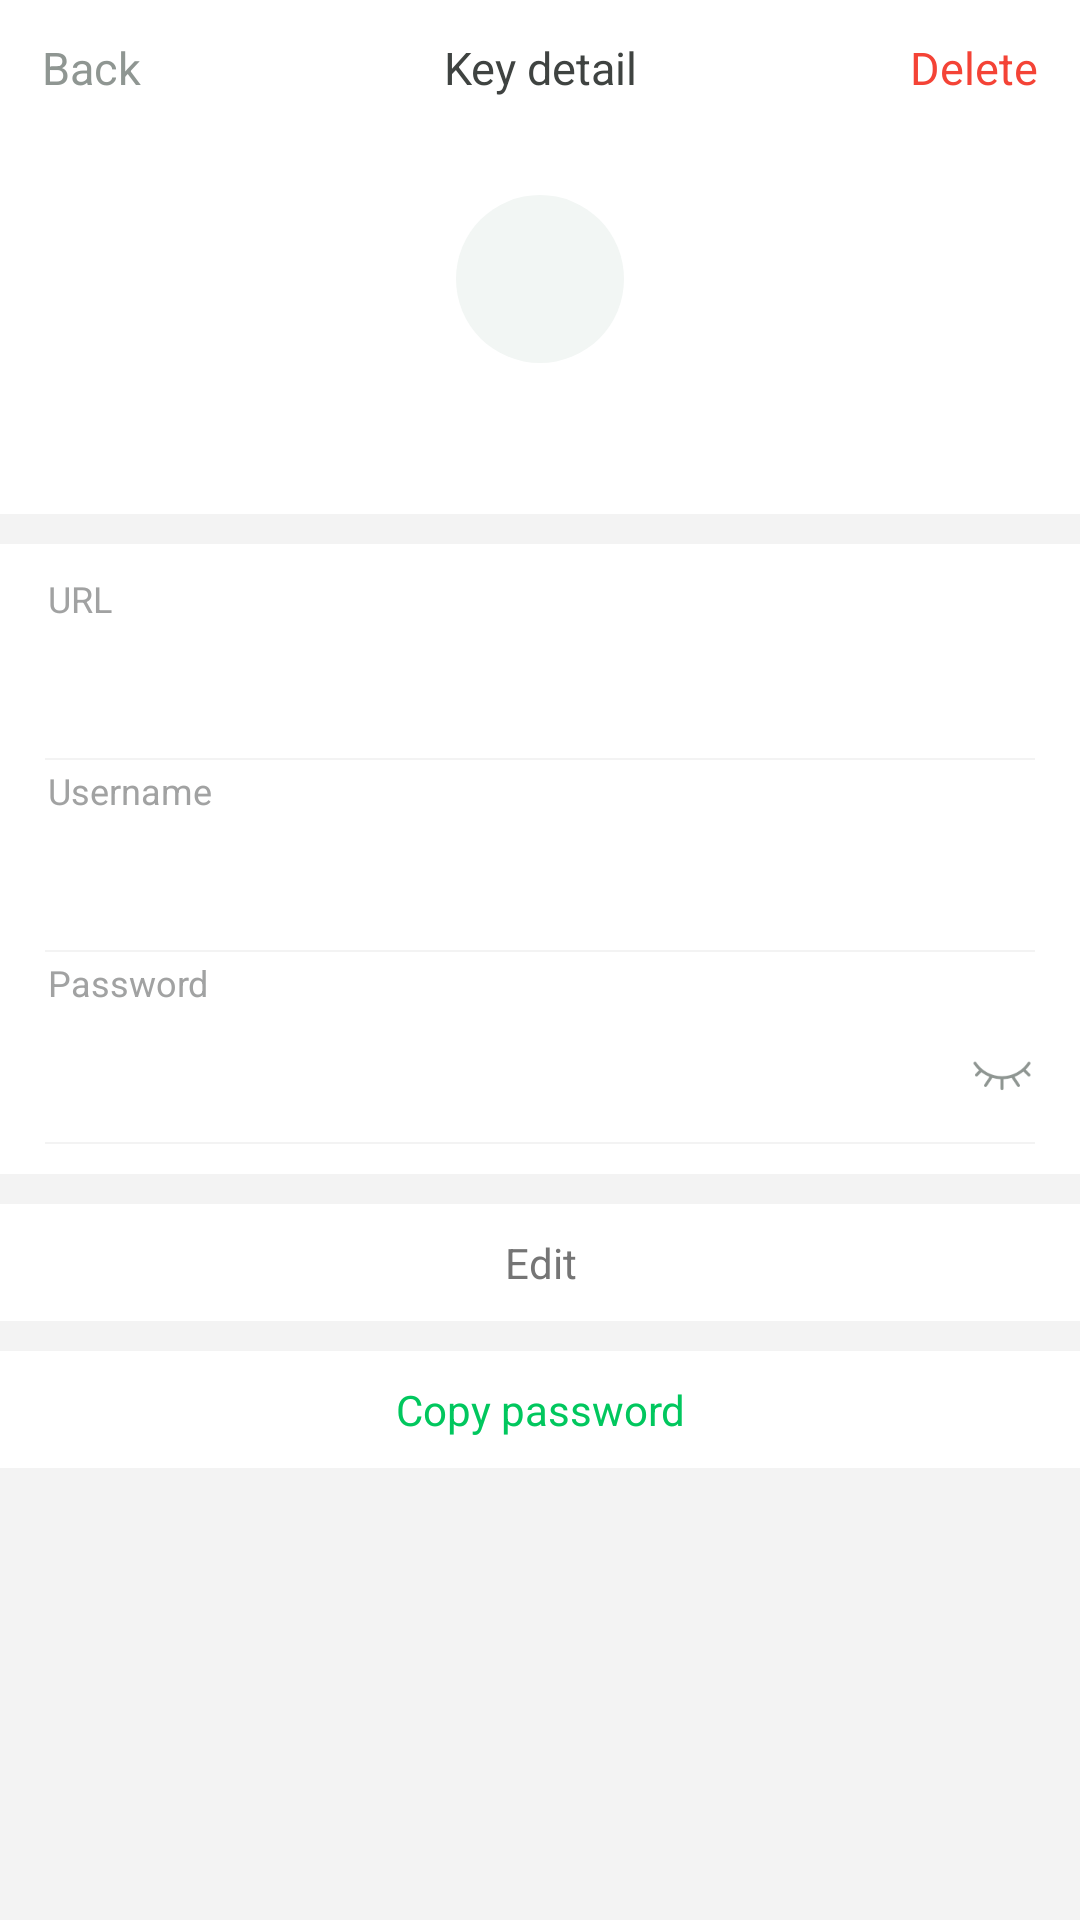

Locate icon controls on the screen. Image size 1080 × 1920, boxes as [x1=x1, y1=y1, x2=x2, y2=y2].
eye close: [x1=973, y1=1061, x2=1031, y2=1090]
